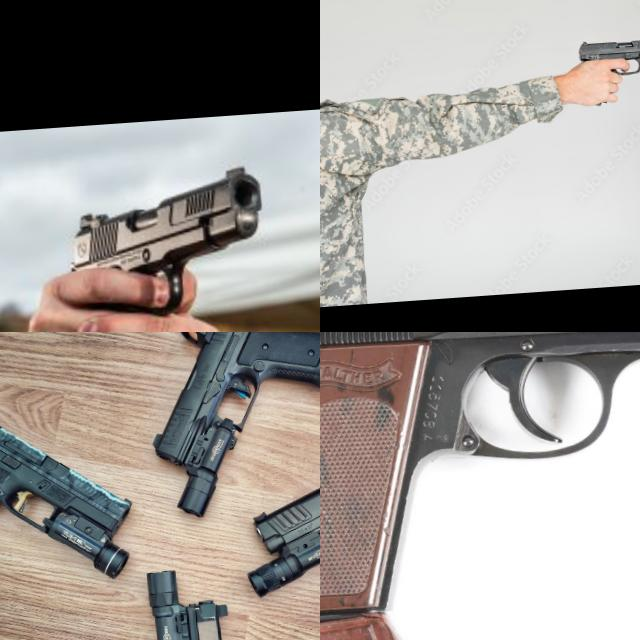handgun: (320, 332, 640, 640), (59, 164, 273, 326), (140, 332, 320, 471), (0, 397, 135, 557), (245, 431, 320, 596), (89, 594, 264, 640), (575, 34, 640, 80)
